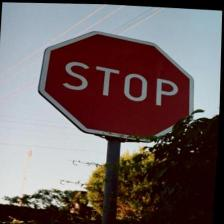Stop: (33, 23, 202, 147)
